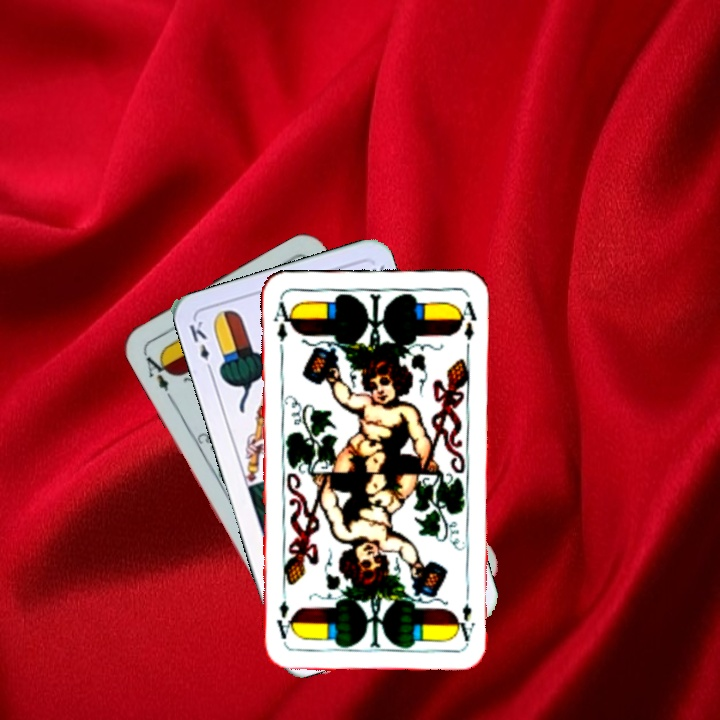EA: (139, 347, 175, 401), (269, 296, 295, 355), (455, 599, 477, 644)
EK: (185, 316, 216, 376)
